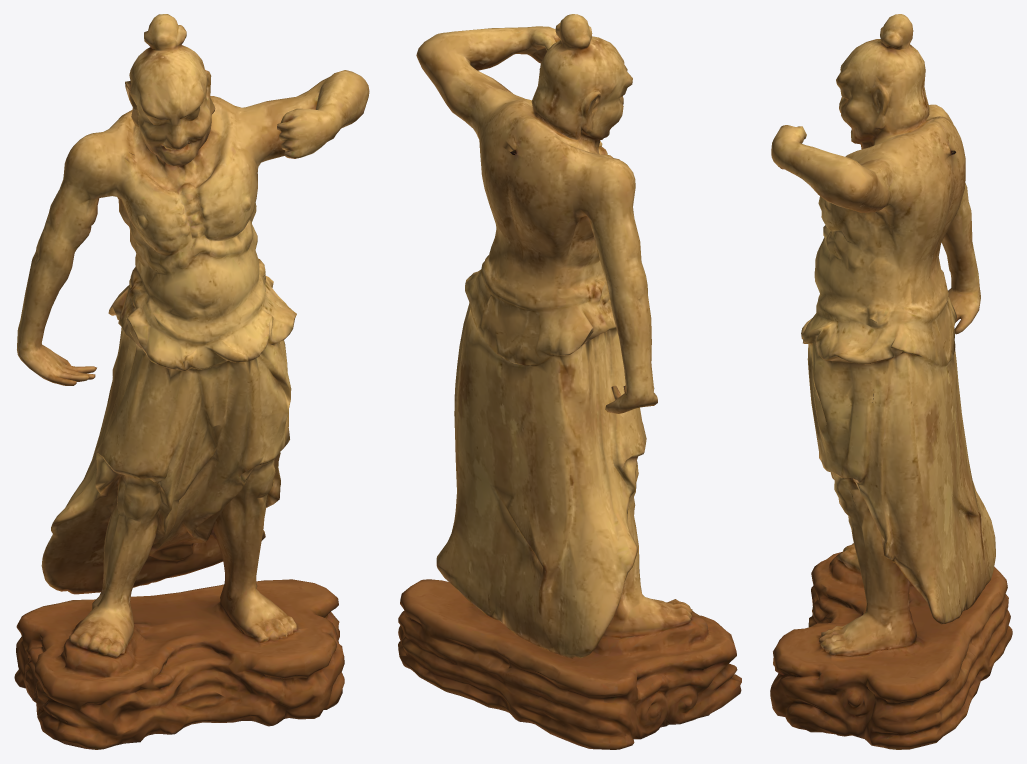
The model's file is guardian-b.glb.
The picture shows the model from 3 angles, left to right: view 1: azimuth 30°, elevation 25°; view 2: azimuth 150°, elevation 25°; view 3: azimuth 270°, elevation 25°; orthographic projection. The views are drawn at different scales.
Visible parts, largest first — view 1: guardian-b-low; view 2: guardian-b-low; view 3: guardian-b-low.
Part boxes in pixels (x1,y1,x2,y2): guardian-b-low: (14, 14, 369, 749); guardian-b-low: (398, 14, 741, 749); guardian-b-low: (770, 14, 1012, 749).
Bounding box in the file's own units: 0.4903 × 1 × 0.3351.
Materials: 1 (1 with a texture image).
